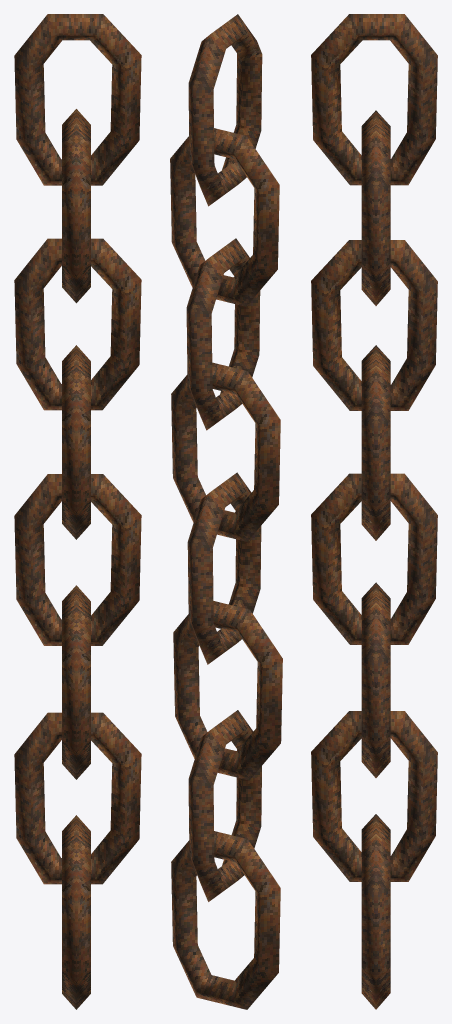
Rendered from shatter_chain.obj.
3 renders of one model, left to right at view 1: azimuth 90°, elevation 25°; view 2: azimuth 150°, elevation 25°; view 3: azimuth 270°, elevation 25°, orthographic.
Visible parts, largest first — view 1: Line008, Line006, Line004, Line005, Line002, Line007, Line001, Line003; view 2: Line007, Line001, Line002, Line003, Line008, Line005, Line004, Line006; view 3: Line008, Line005, Line004, Line006, Line007, Line002, Line001, Line003.
Boxes of the visible parts, x1,y1,x2,y2 form: Line008: (14,14,141,185); Line006: (14,712,141,884); Line004: (14,238,141,410); Line005: (14,474,141,645); Line002: (62,345,90,539); Line007: (62,815,90,1009); Line001: (62,585,90,779); Line003: (62,109,90,303); Line007: (171,831,280,1009); Line001: (173,601,282,780); Line002: (171,362,280,541); Line003: (170,128,279,306); Line008: (188,14,262,206); Line005: (187,472,261,664); Line004: (186,238,260,430); Line006: (188,710,261,901); Line008: (311,14,437,185); Line005: (311,473,437,644); Line004: (311,240,437,410); Line006: (311,711,437,881); Line007: (361,814,390,1009); Line002: (361,345,390,540); Line001: (361,582,390,777); Line003: (361,110,390,305).
Bounding box in the file's own units: 135 × 1120 × 131.
